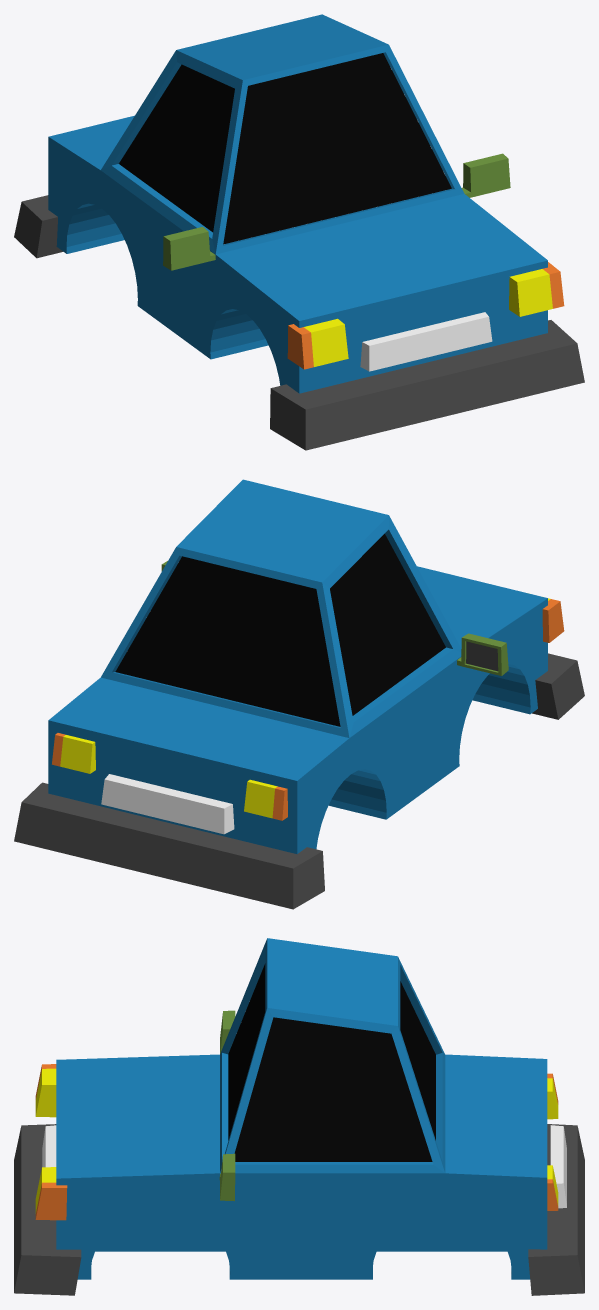
File: Carro_Final.glb
The picture shows the model from 3 angles, top to bottom: view 1: azimuth 30°, elevation 25°; view 2: azimuth 150°, elevation 25°; view 3: azimuth 270°, elevation 25°; orthographic projection. The views are drawn at different scales.
Visible parts, largest first — view 1: Carro, Janelas, Parachoque_Dianteiro, Placa_Traseira.001, Farol_Dir, Farol_Esq, Parachoque_Traseiro, Visor_Dir, Visor_Esq; view 2: Carro, Janelas, Parachoque_Traseiro, Placa_Traseira, Parachoque_Dianteiro, Visor_Dir, Farol_Esq_Tras, Farol_Dir_Tras, Farol_Dir; view 3: Carro, Janelas, Parachoque_Dianteiro, Parachoque_Traseiro, Farol_Esq, Placa_Traseira, Farol_Dir, Visor_Esq, Placa_Traseira.001, Farol_Dir_Tras, Farol_Esq_Tras.
Part boxes in pixels (left/top/right/bottom): Carro: left=48, top=14, right=547, bottom=393; Janelas: left=119, top=53, right=451, bottom=244; Parachoque_Dianteiro: left=270, top=320, right=584, bottom=450; Placa_Traseira.001: left=360, top=312, right=492, bottom=371; Farol_Dir: left=287, top=318, right=348, bottom=369; Farol_Esq: left=509, top=262, right=564, bottom=316; Parachoque_Traseiro: left=14, top=195, right=63, bottom=258; Visor_Dir: left=163, top=227, right=215, bottom=270; Visor_Esq: left=461, top=153, right=510, bottom=197; Carro: left=48, top=479, right=547, bottom=853; Janelas: left=115, top=533, right=445, bottom=726; Parachoque_Traseiro: left=14, top=782, right=324, bottom=909; Placa_Traseira: left=101, top=774, right=234, bottom=834; Parachoque_Dianteiro: left=532, top=653, right=584, bottom=719; Visor_Dir: left=457, top=633, right=508, bottom=675; Farol_Esq_Tras: left=52, top=733, right=95, bottom=773; Farol_Dir_Tras: left=244, top=779, right=287, bottom=820; Farol_Dir: left=542, top=598, right=564, bottom=642; Carro: left=56, top=938, right=547, bottom=1279; Janelas: left=228, top=963, right=435, bottom=1161; Parachoque_Dianteiro: left=14, top=1124, right=81, bottom=1295; Parachoque_Traseiro: left=528, top=1124, right=584, bottom=1295; Farol_Esq: left=35, top=1167, right=67, bottom=1220; Placa_Traseira: left=550, top=1125, right=566, bottom=1208; Farol_Dir: left=35, top=1064, right=56, bottom=1117; Visor_Esq: left=219, top=1153, right=235, bottom=1201; Placa_Traseira.001: left=42, top=1125, right=56, bottom=1167; Farol_Dir_Tras: left=547, top=1073, right=558, bottom=1119; Farol_Esq_Tras: left=547, top=1165, right=558, bottom=1210.
Size of the model in its own units: 2.5 by 1.82 by 3.7.
Materials: 3 (3 with a texture image).
